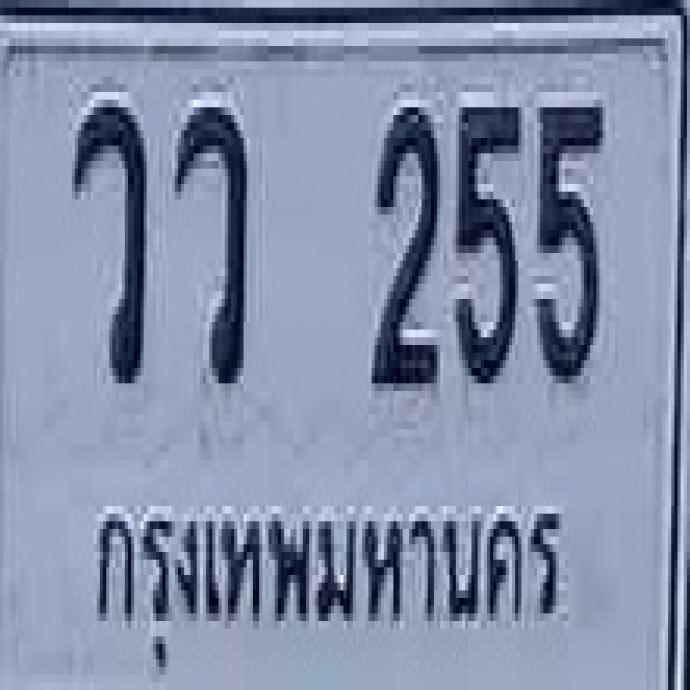2: (370, 101, 438, 385)
5: (534, 98, 601, 380), (453, 99, 519, 381)
A37: (70, 99, 145, 379), (173, 101, 245, 376)
BKK: (83, 479, 572, 680)
